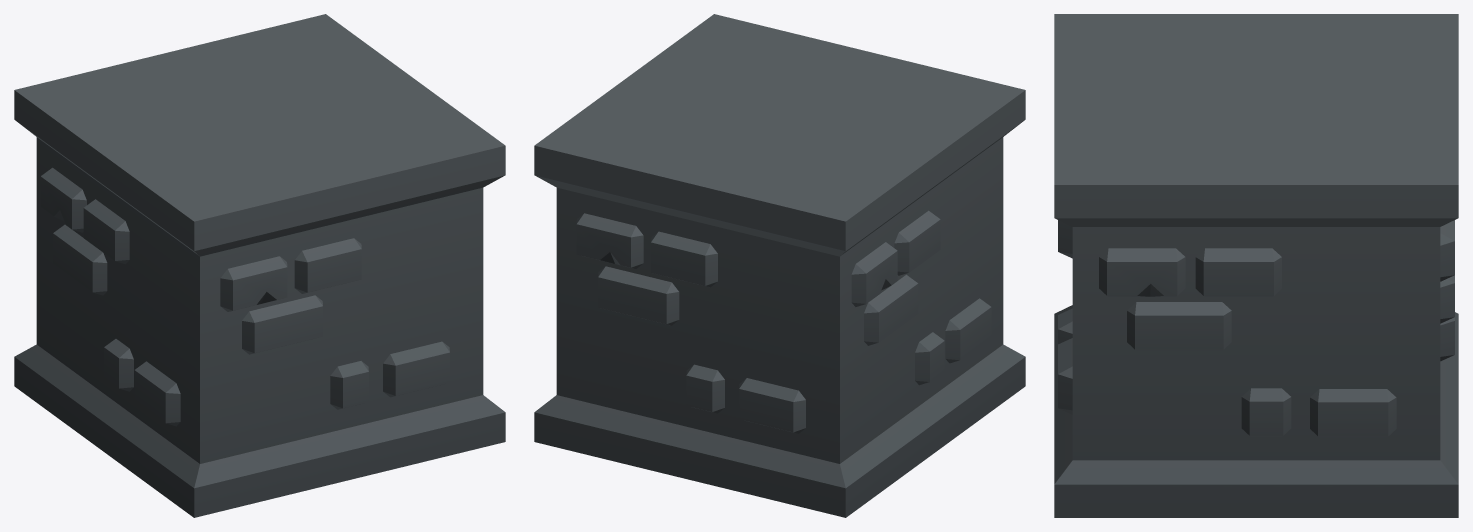
The model's file is Floatable_HighRes.fbx.
3 renders of one model, left to right at view 1: azimuth 30°, elevation 25°; view 2: azimuth 150°, elevation 25°; view 3: azimuth 270°, elevation 25°, orthographic. The views are drawn at different scales.
Visible parts, largest first — view 1: floor_foundation_allsides; view 2: floor_foundation_allsides; view 3: floor_foundation_allsides.
Part boxes in pixels (bbox=[...]): floor_foundation_allsides: bbox=[14, 14, 505, 517]; floor_foundation_allsides: bbox=[534, 14, 1025, 517]; floor_foundation_allsides: bbox=[1054, 14, 1458, 517].
Size of the model in its own units: 220 by 200 by 220.
